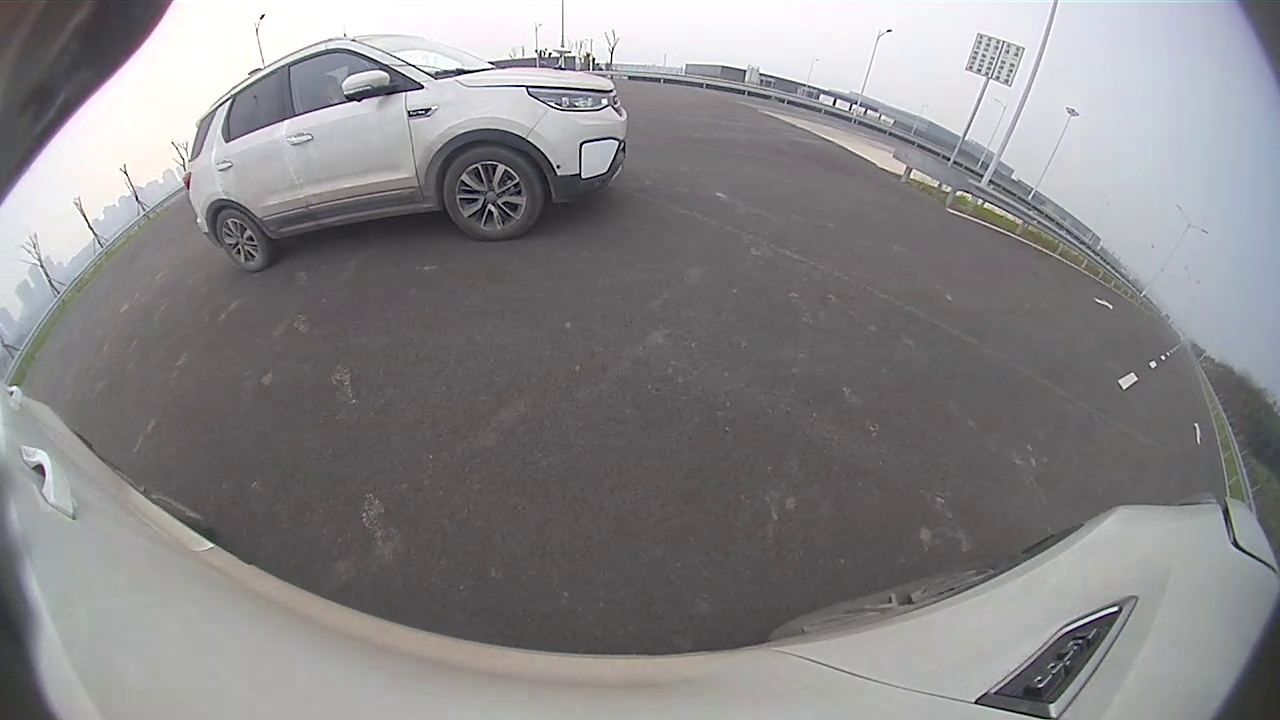car: (182, 32, 628, 273)
front: (443, 148, 541, 240)
rear: (216, 209, 266, 271)
